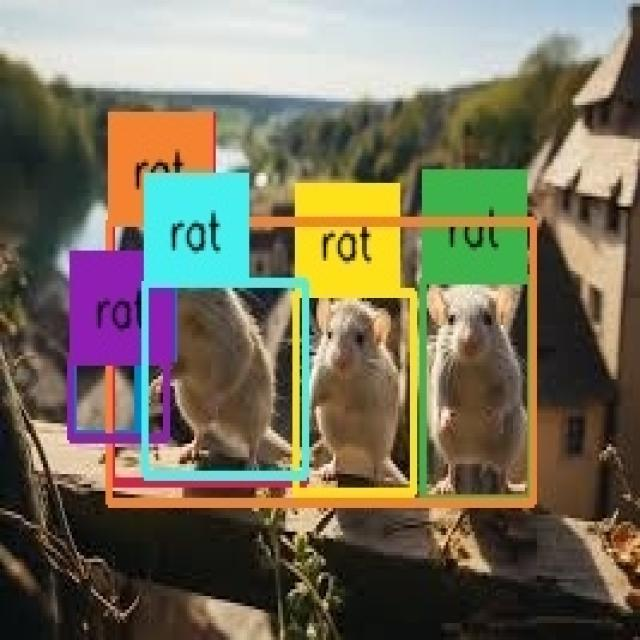rat: (109, 220, 533, 501), (110, 223, 307, 481), (146, 283, 304, 476), (424, 278, 532, 501), (296, 293, 414, 493), (70, 362, 166, 437), (72, 362, 139, 437)
